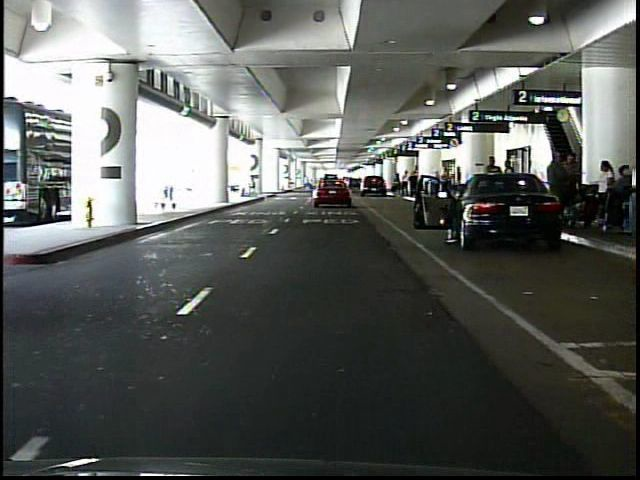person: (543, 149, 572, 226), (613, 164, 633, 232), (483, 156, 503, 215), (594, 160, 615, 215), (503, 157, 519, 214), (402, 169, 412, 199), (410, 172, 419, 199), (395, 175, 403, 196), (304, 174, 313, 191), (572, 149, 573, 228)
